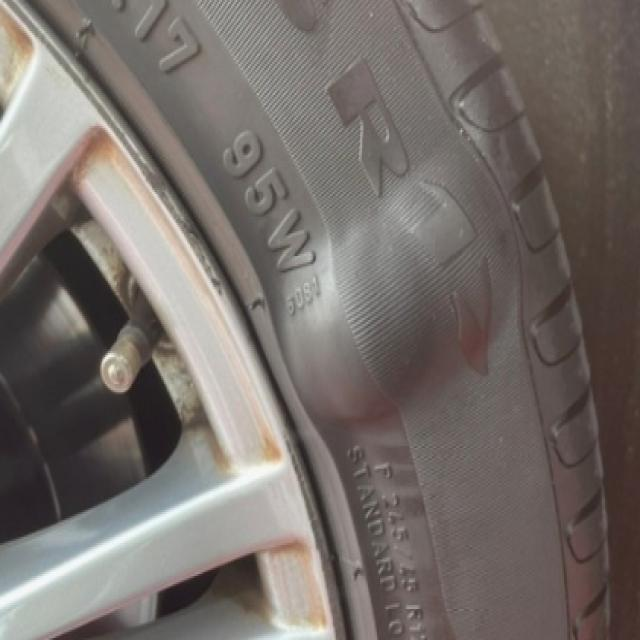Bulge: (262, 127, 538, 440)
